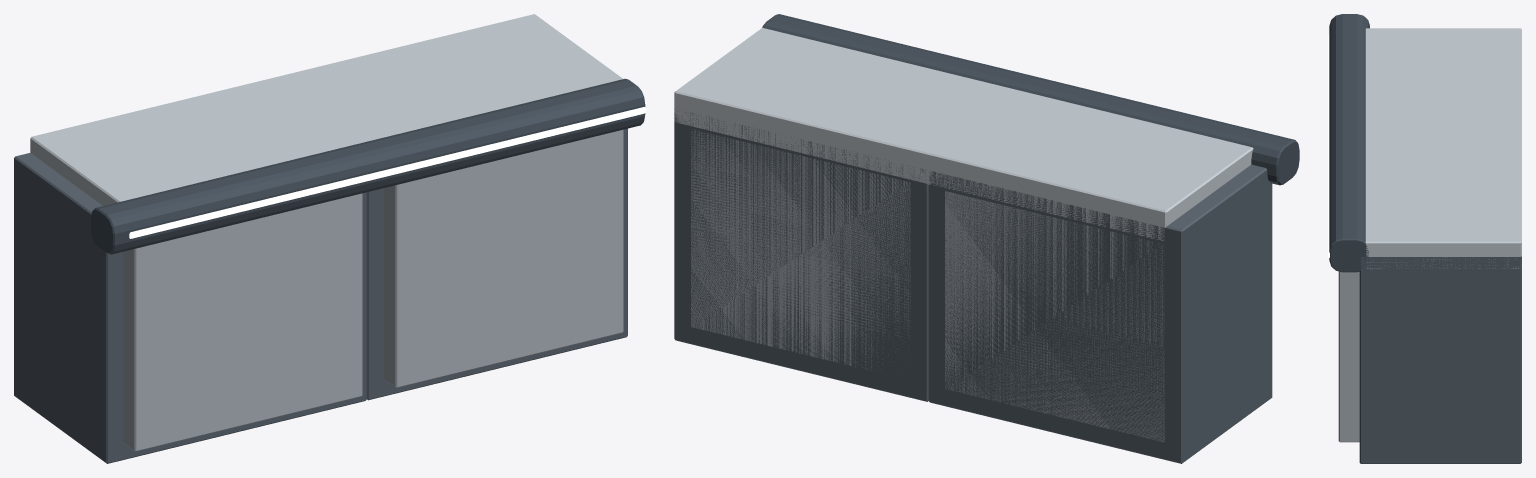
Rendered from Terrain_TopRun2L.gltf.
3 renders of one model, left to right at view 1: azimuth 30°, elevation 25°; view 2: azimuth 150°, elevation 25°; view 3: azimuth 270°, elevation 25°, orthographic. The views are drawn at different scales.
Parts seen in each view (by area): view 1: Terrain_TopRun2L_baked; view 2: Terrain_TopRun2L_baked; view 3: Terrain_TopRun2L_baked.
Part boxes in pixels (x1,y1,x2,y2): Terrain_TopRun2L_baked: (14, 14, 645, 463); Terrain_TopRun2L_baked: (674, 14, 1299, 463); Terrain_TopRun2L_baked: (1328, 14, 1521, 463).
Size of the model in its own units: 2.04 by 0.9495 by 0.74.
